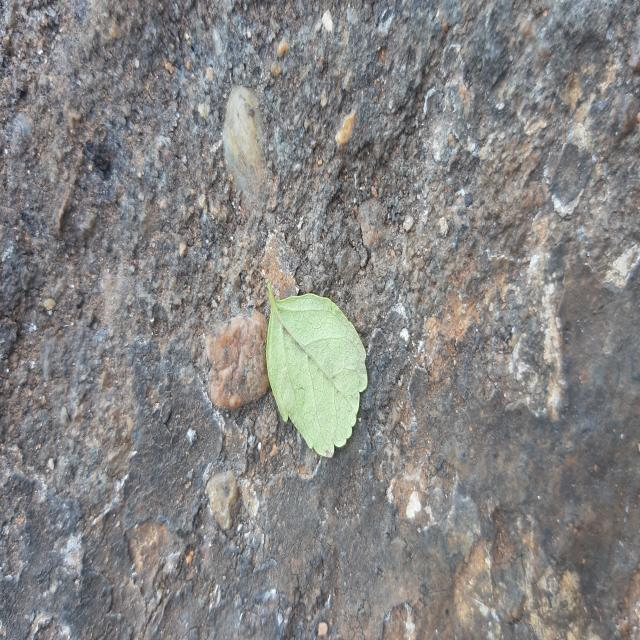defectedtecoma: (306, 296, 368, 456)
tecoma: (266, 280, 368, 458), (321, 298, 368, 447)
